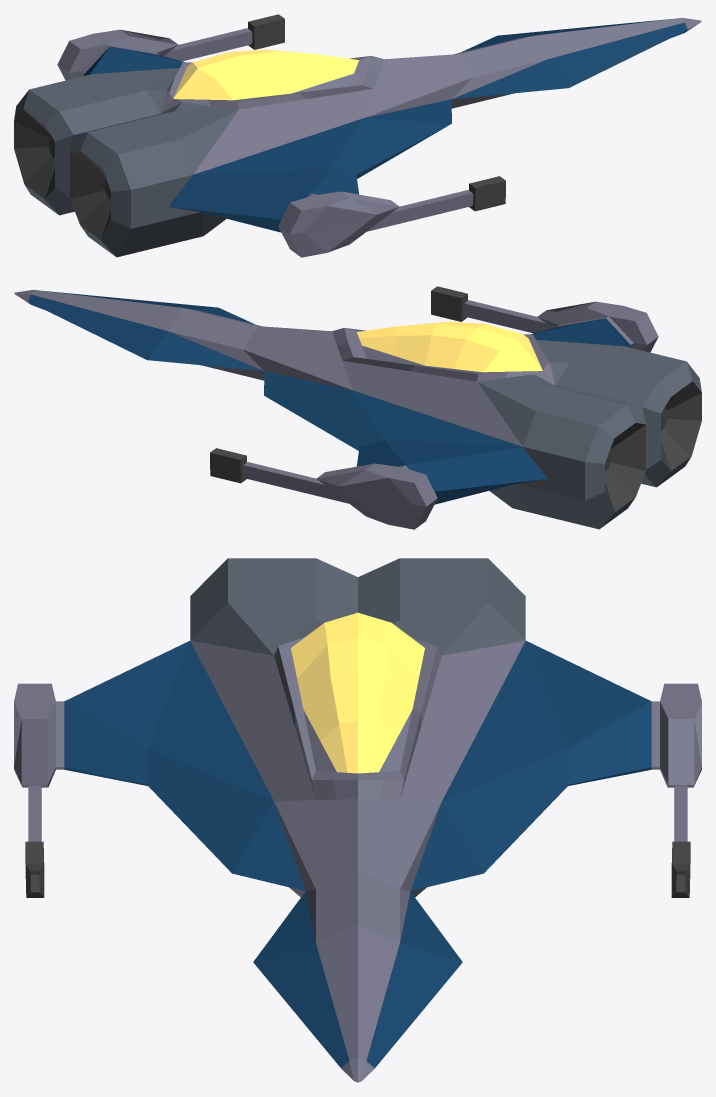
Rendered from SpaceShip V2.glb.
The picture shows the model from 3 angles, top to bottom: view 1: azimuth 30°, elevation 25°; view 2: azimuth 150°, elevation 25°; view 3: azimuth 270°, elevation 25°; orthographic projection. The views are drawn at different scales.
Parts seen in each view (by area): view 1: Ship; view 2: Ship; view 3: Ship.
Boxes of the visible parts, x1,y1,x2,y2 form: Ship: (14, 14, 701, 257); Ship: (14, 286, 701, 529); Ship: (14, 558, 701, 1082).
Bounding box in the file's own units: 25.75 × 5 × 16.4.
